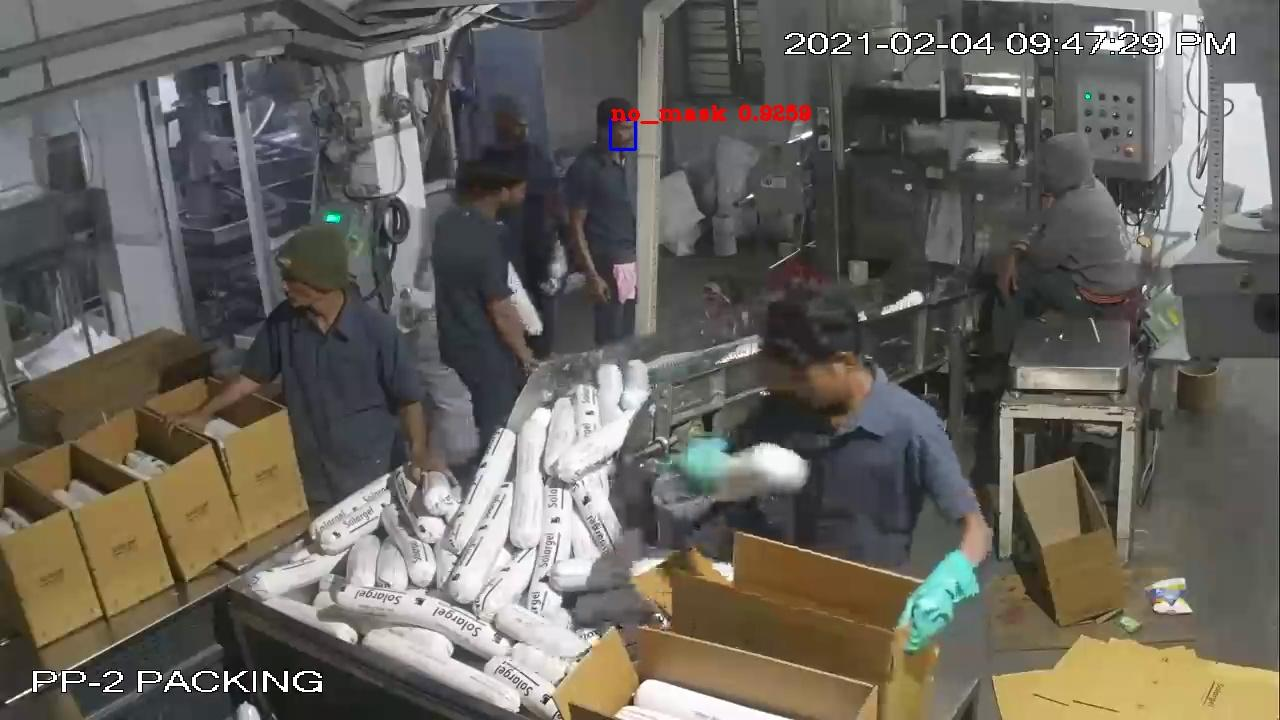Gloves: (897, 539, 992, 668), (663, 430, 743, 504)
NO-Gloves: (146, 372, 284, 452), (478, 274, 553, 387), (391, 393, 453, 489), (558, 214, 621, 307), (988, 241, 1035, 310)
Person: (220, 225, 430, 513), (429, 157, 541, 465), (1000, 132, 1144, 326)
